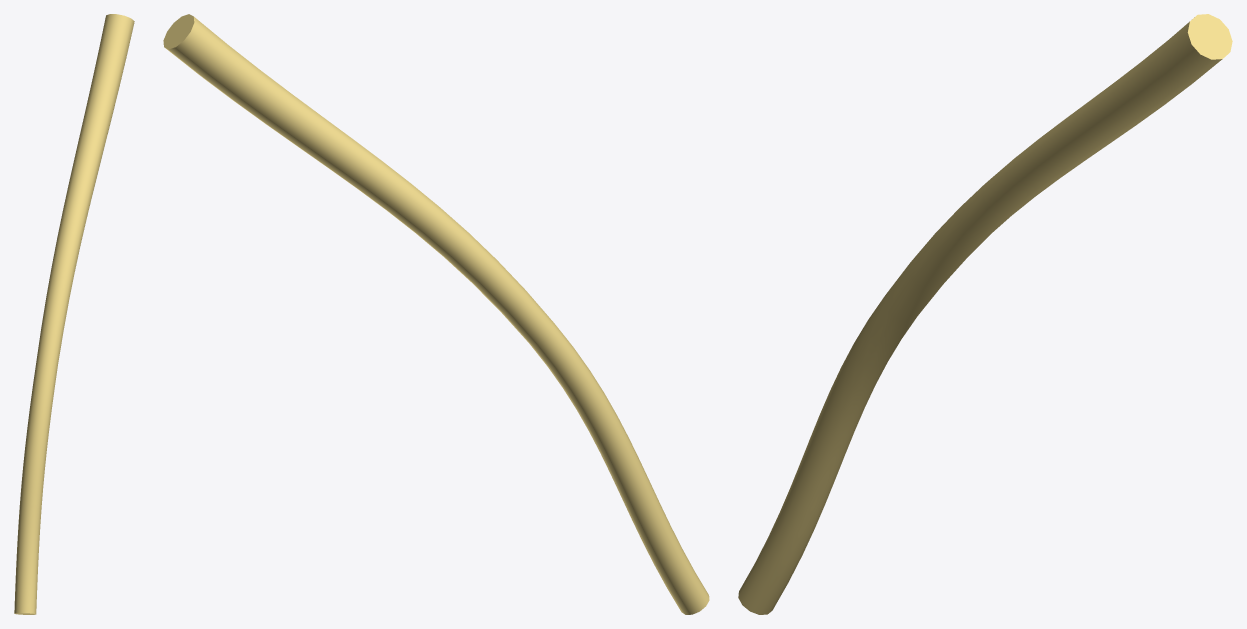
The picture shows the model from 3 angles, left to right: view 1: azimuth 30°, elevation 25°; view 2: azimuth 150°, elevation 25°; view 3: azimuth 270°, elevation 25°; orthographic projection. The views are drawn at different scales.
Parts seen in each view (by area): view 1: ZA_9d83f7957a7a94c5; view 2: ZA_9d83f7957a7a94c5; view 3: ZA_9d83f7957a7a94c5.
Part boxes in pixels (x1,y1,x2,y2): ZA_9d83f7957a7a94c5: [14, 14, 134, 614]; ZA_9d83f7957a7a94c5: [163, 14, 709, 614]; ZA_9d83f7957a7a94c5: [738, 14, 1232, 614].
Bounding box in the file's own units: 0.00759 × 0.0133 × 0.00766.
